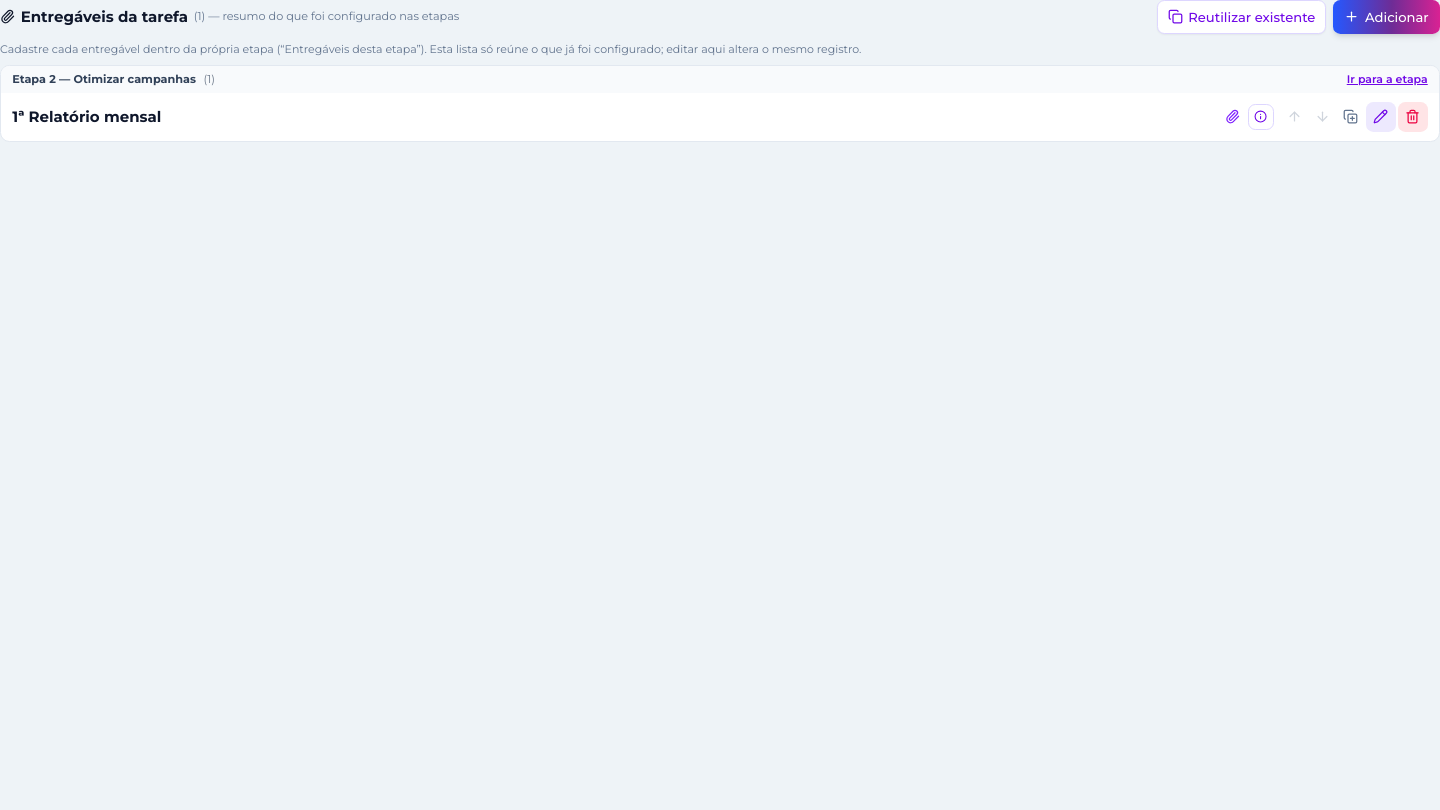
Scenario: Entregáveis da tarefa · resumo derivado das etapas › o lápis abre o modal com tudo preenchido e o contexto da tarefa/etapa; mudar a recorrência e salvar envia o corpo completo do MESMO registro
This screenshot has width=1440, height=810.
Later steps or results of the test are not shown.
What coordinates should you click on to do the following:
click the button named "Editar entregável Relatório mensal"
I would click on:
 (1381, 117)
Its box is [1366, 102, 1396, 132].
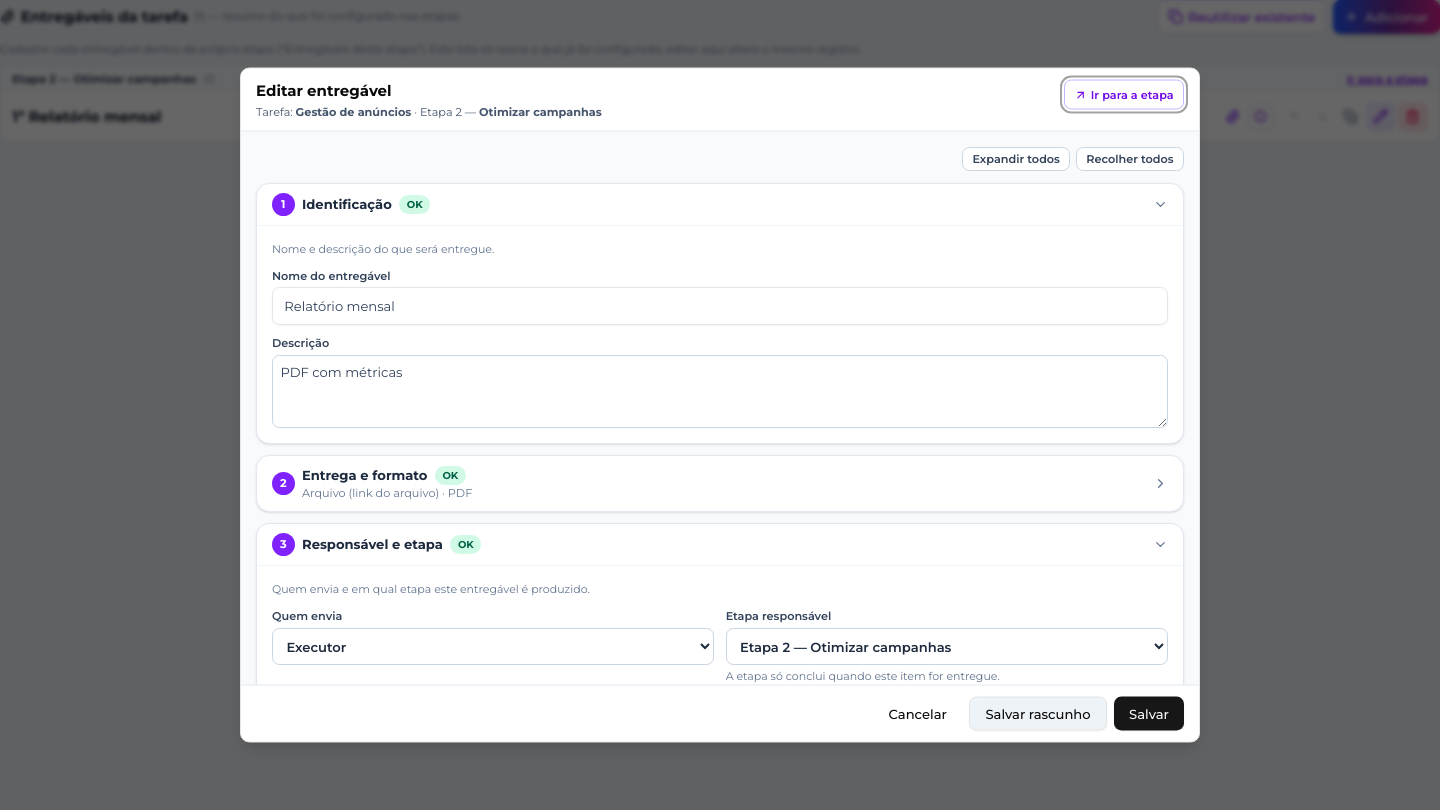
Expected: the heading "Editar entregável" is shown, [256, 81, 392, 100]
Expected: the element with test id "deliverable-modal-context" shows "Etapa 2 — Otimizar campanhas", [256, 104, 602, 119]
Expected: the button with test id "deliverable-go-step" is shown, [1064, 80, 1184, 110]
